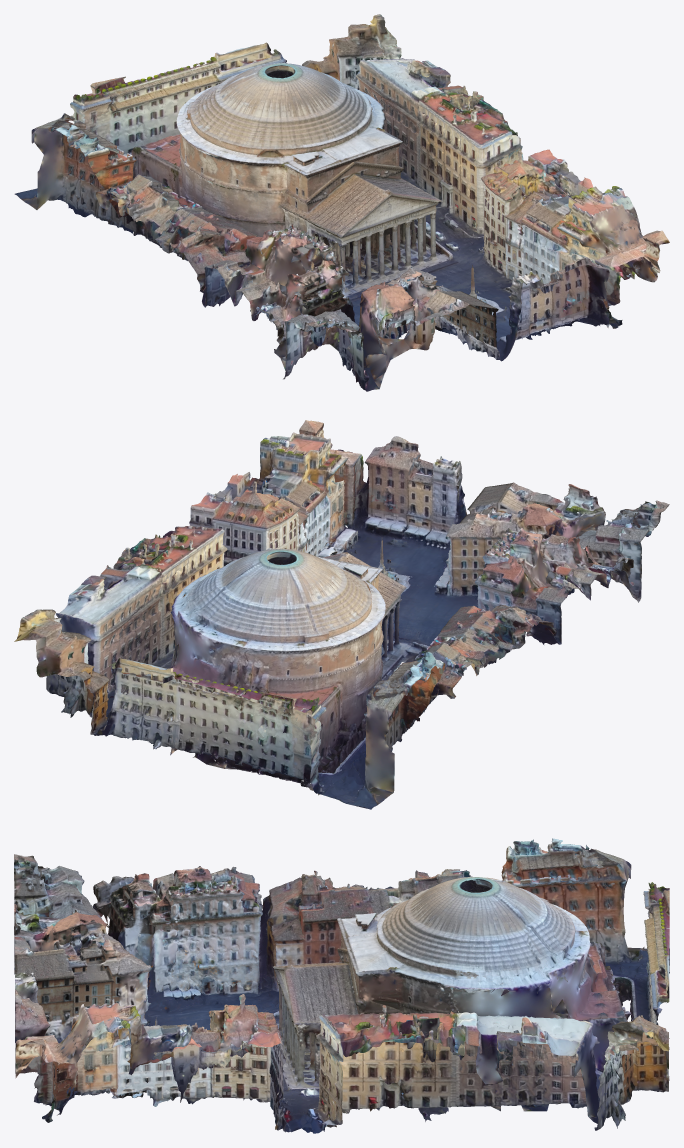
Rendered from pantheon.glb.
3 renders of one model, top to bottom at view 1: azimuth 30°, elevation 25°; view 2: azimuth 150°, elevation 25°; view 3: azimuth 270°, elevation 25°, orthographic. The views are drawn at different scales.
Visible parts, largest first — view 1: Object_3, Object_8, Object_9, Object_6, Object_2, Object_4, Object_10, Object_7, Object_5, Object_11; view 2: Object_3, Object_8, Object_2, Object_4, Object_6, Object_9, Object_7, Object_10, Object_5, Object_11; view 3: Object_3, Object_2, Object_8, Object_4, Object_9, Object_5, Object_6, Object_10, Object_11, Object_7.
Boxes of the visible parts, x1,y1,x2,y2 form: Object_3: [70, 55, 635, 360]; Object_8: [34, 27, 669, 391]; Object_9: [60, 91, 565, 389]; Object_6: [20, 17, 516, 311]; Object_2: [14, 14, 660, 391]; Object_4: [51, 17, 657, 379]; Object_10: [33, 18, 638, 366]; Object_7: [137, 56, 634, 356]; Object_5: [63, 33, 657, 391]; Object_11: [46, 18, 659, 376]; Object_3: [97, 436, 577, 763]; Object_8: [56, 420, 656, 792]; Object_2: [14, 423, 669, 809]; Object_4: [17, 423, 665, 799]; Object_6: [27, 513, 540, 805]; Object_9: [137, 494, 656, 784]; Object_7: [72, 436, 544, 730]; Object_10: [31, 439, 653, 796]; Object_5: [63, 432, 661, 790]; Object_11: [20, 433, 665, 793]; Object_3: [14, 874, 653, 1122]; Object_2: [14, 841, 669, 1133]; Object_8: [14, 845, 669, 1122]; Object_4: [14, 841, 669, 1128]; Object_9: [14, 840, 630, 1107]; Object_5: [14, 838, 641, 1129]; Object_6: [239, 839, 669, 1120]; Object_10: [15, 844, 667, 1114]; Object_11: [14, 843, 669, 1131]; Object_7: [14, 877, 618, 1113].
Size of the model in its own units: 61.78 by 26.01 by 89.39.
2 materials, 2 textured.
